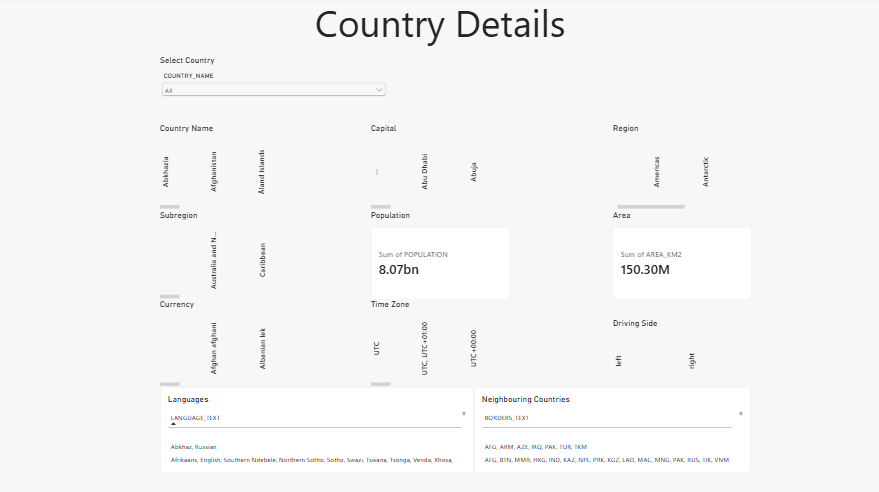

What the dashboard file says about the page in this screenshot:
{"tool":"powerbi","page":{"name":"Page 2","canvas":[1920,1080],"ordinal":1},"visuals":[{"type":"textbox","box":[674.4,0,571.1,125.1],"z":0},{"type":"cardVisual","title":"Country Name","fields":{"Rows":["COUNTRIES_ANALYTICS.COUNTRY_NAME"]},"box":[354.2,272.2,298.1,187.9],"z":1000},{"type":"cardVisual","title":"Capital","fields":{"Rows":["COUNTRIES_ANALYTICS.CAPITAL"]},"box":[810.4,272,299.2,187.6],"z":2000},{"type":"cardVisual","title":"Region","fields":{"Rows":["COUNTRIES_ANALYTICS.REGION"]},"box":[1332.6,272,299.2,187.6],"z":3000},{"type":"cardVisual","title":"Population","fields":{"Data":["Sum(COUNTRIES_ANALYTICS.POPULATION)"]},"box":[810.4,459.6,299.2,193.1],"z":4000},{"type":"cardVisual","title":"Subregion","fields":{"Rows":["COUNTRIES_ANALYTICS.SUBREGION"]},"box":[353.5,459.6,299.2,193.1],"z":5000},{"type":"cardVisual","title":"Area","fields":{"Data":["Sum(COUNTRIES_ANALYTICS.AREA_KM2)"]},"box":[1332.6,459.6,299.2,193.1],"z":6000},{"type":"cardVisual","title":"Currency","fields":{"Rows":["COUNTRIES_ANALYTICS.CURRENCY_TEXT"]},"box":[353.5,652.7,299.2,190.4],"z":7000},{"type":"cardVisual","title":"Time Zone","fields":{"Rows":["COUNTRIES_ANALYTICS.TIMEZONE_TEXT"]},"box":[810.4,652.7,299.2,190.4],"z":8000},{"type":"tableEx","title":"Languages","fields":{"Values":["COUNTRIES_ANALYTICS.LANGUAGE_TEXT"]},"box":[354.2,842.4,678.2,185.8],"z":9000},{"type":"tableEx","title":"Neighbouring Countries","fields":{"Values":["COUNTRIES_ANALYTICS.BORDERS_TEXT"]},"box":[1032.5,842.4,598.3,185.8],"z":10000},{"type":"slicer","title":"Select Country","fields":{"Values":["COUNTRIES_ANALYTICS.COUNTRY_NAME"]},"box":[353.5,125.1,492.2,133.3],"z":11000},{"type":"cardVisual","title":"Driving Side","fields":{"Rows":["COUNTRIES_ANALYTICS.DRIVING_SIDE"]},"box":[1332.6,693.5,299.2,149.6],"z":12000}]}

Visuals, with their boxes in screenshot pixels (x1, y1, x2, y2), scaled from the page's 1920x1080 canvas onto the 879x492 screenshot:
textbox: 309, 0, 570, 57
"Country Name" cardVisual: 162, 124, 299, 210
"Capital" cardVisual: 371, 124, 508, 209
"Region" cardVisual: 610, 124, 747, 209
"Population" cardVisual: 371, 209, 508, 297
"Subregion" cardVisual: 162, 209, 299, 297
"Area" cardVisual: 610, 209, 747, 297
"Currency" cardVisual: 162, 297, 299, 384
"Time Zone" cardVisual: 371, 297, 508, 384
"Languages" tableEx: 162, 384, 473, 468
"Neighbouring Countries" tableEx: 473, 384, 747, 468
"Select Country" slicer: 162, 57, 387, 118
"Driving Side" cardVisual: 610, 316, 747, 384
